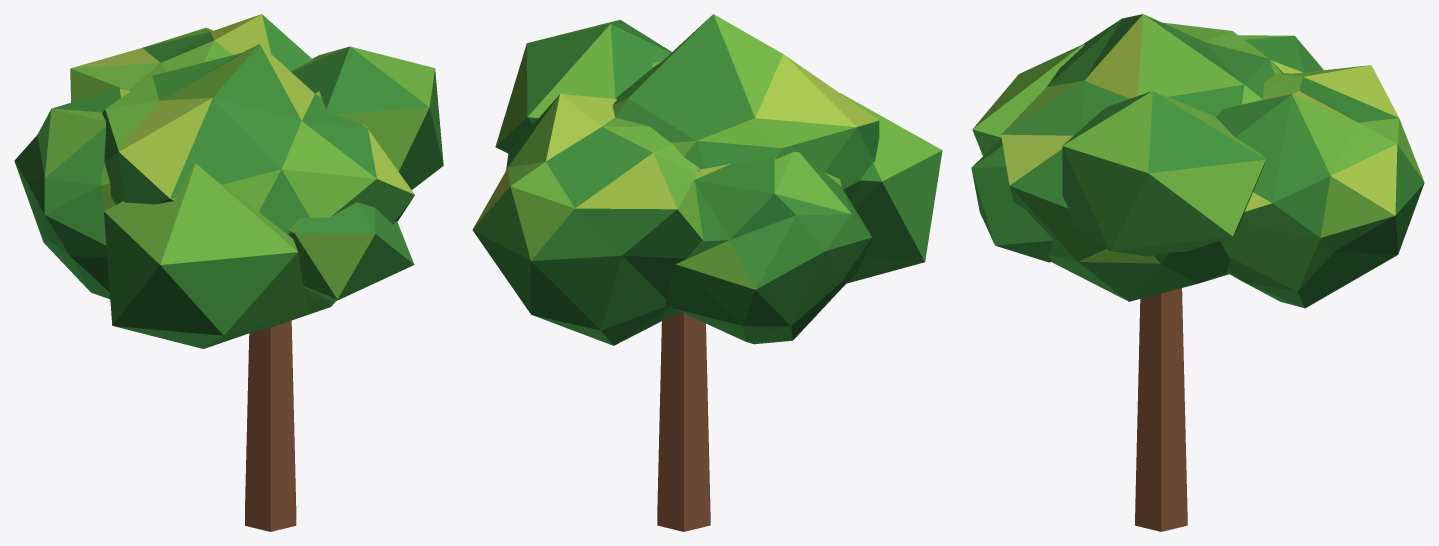
Rendered from tree_round_b.glb.
3 renders of one model, left to right at view 1: azimuth 30°, elevation 25°; view 2: azimuth 150°, elevation 25°; view 3: azimuth 270°, elevation 25°, orthographic. The views are drawn at different scales.
Visible parts, largest first — view 1: body; view 2: body; view 3: body.
Boxes of the visible parts, x1,y1,x2,y2 form: body: (14,14,443,531); body: (472,14,942,531); body: (971,14,1424,531).
Size of the model in its own units: 3.38 by 4.34 by 3.6.
